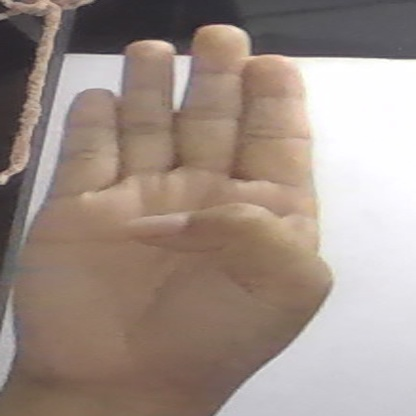B: (7, 23, 332, 391)
